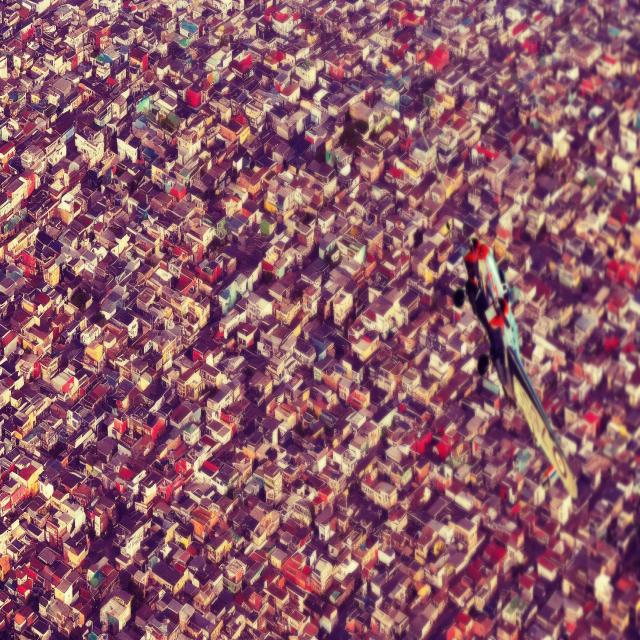airplane: (457, 234, 578, 500)
